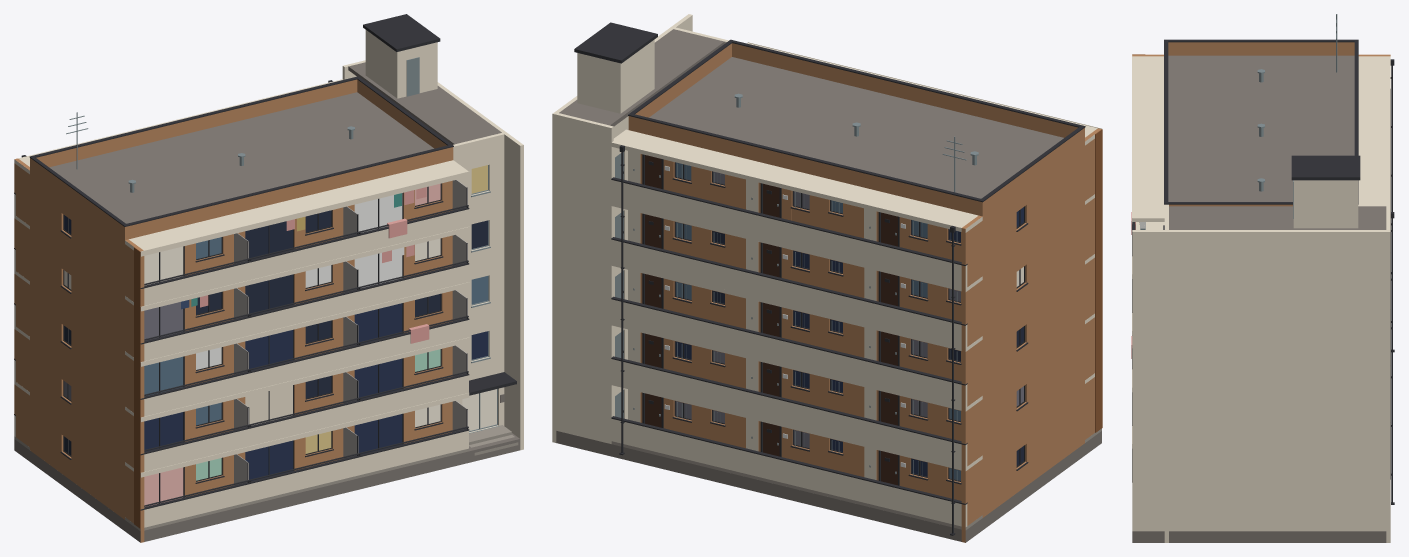
File: tb_mansion_5f_01_b.fbx
The picture shows the model from 3 angles, left to right: view 1: azimuth 30°, elevation 25°; view 2: azimuth 150°, elevation 25°; view 3: azimuth 270°, elevation 25°; orthographic projection. The views are drawn at different scales.
Parts seen in each view (by area): view 1: tb_mansion_5f_01_b; view 2: tb_mansion_5f_01_b; view 3: tb_mansion_5f_01_b.
Boxes of the visible parts, left/top/right/bottom form: tb_mansion_5f_01_b: left=14, top=14, right=523, bottom=542; tb_mansion_5f_01_b: left=552, top=14, right=1102, bottom=542; tb_mansion_5f_01_b: left=1131, top=14, right=1394, bottom=542.
Size of what is drawn, in the model's own units: 21.05 by 18.6 by 12.25.
3 materials, 3 textured.
